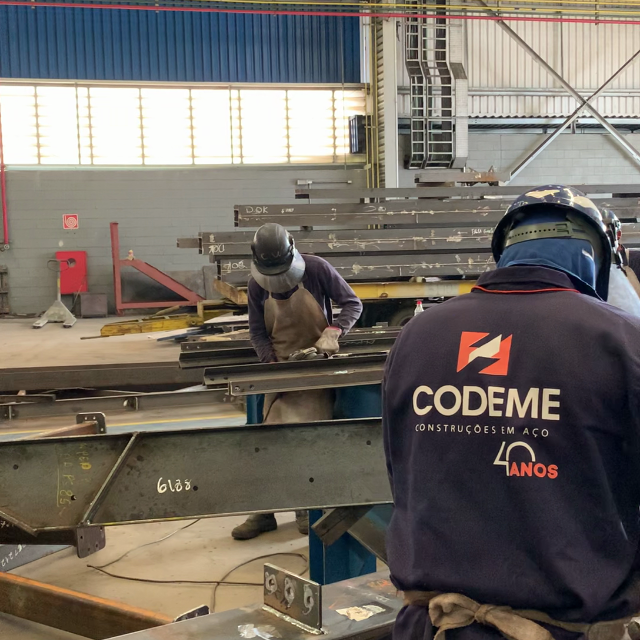face-shield: (247, 251, 304, 295)
glove: (318, 327, 342, 356)
helmet: (490, 184, 613, 302), (254, 223, 293, 275)
person: (380, 185, 640, 634), (247, 222, 362, 361)
